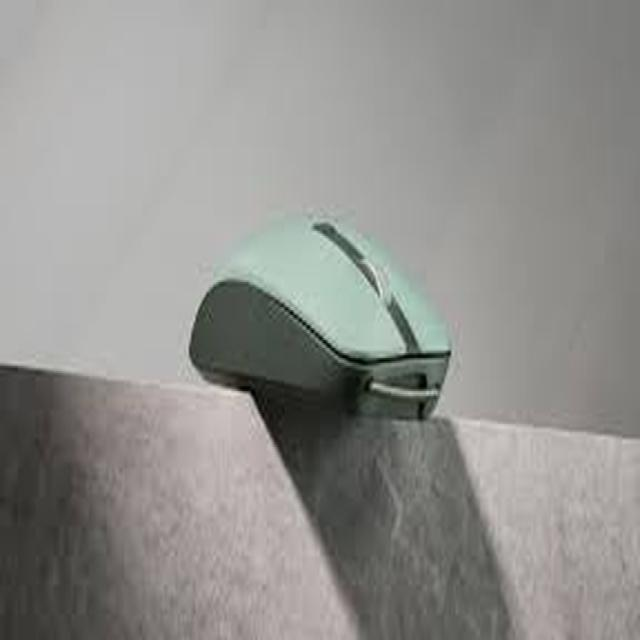mouse: (150, 160, 479, 442)
